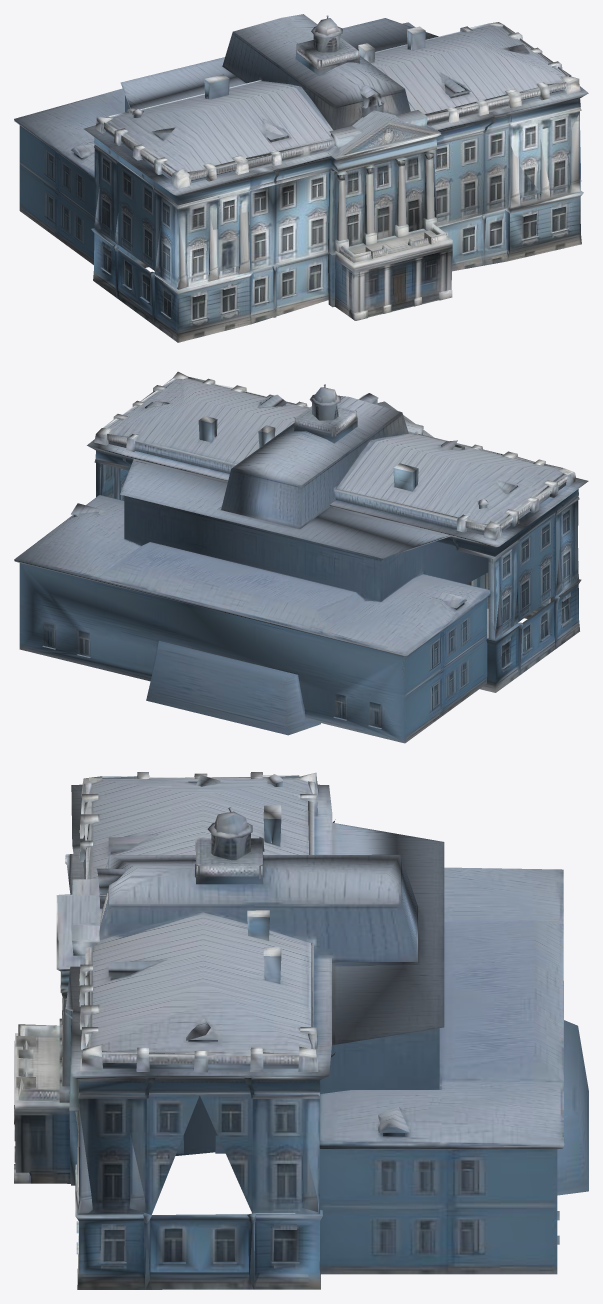
The model's file is spb_r3.glb.
The picture shows the model from 3 angles, top to bottom: view 1: azimuth 30°, elevation 25°; view 2: azimuth 150°, elevation 25°; view 3: azimuth 270°, elevation 25°; orthographic projection. The views are drawn at different scales.
Visible parts, largest first — view 1: tripo_node_543d6014; view 2: tripo_node_543d6014; view 3: tripo_node_543d6014.
Boxes of the visible parts, x1=… form: tripo_node_543d6014: x1=14, y1=14, x2=588, y2=342; tripo_node_543d6014: x1=14, y1=371, x2=588, y2=743; tripo_node_543d6014: x1=14, y1=772, x2=588, y2=1289.
Size of the model in its own units: 0.9966 by 0.546 by 0.8237.
1 material, 1 textured.
